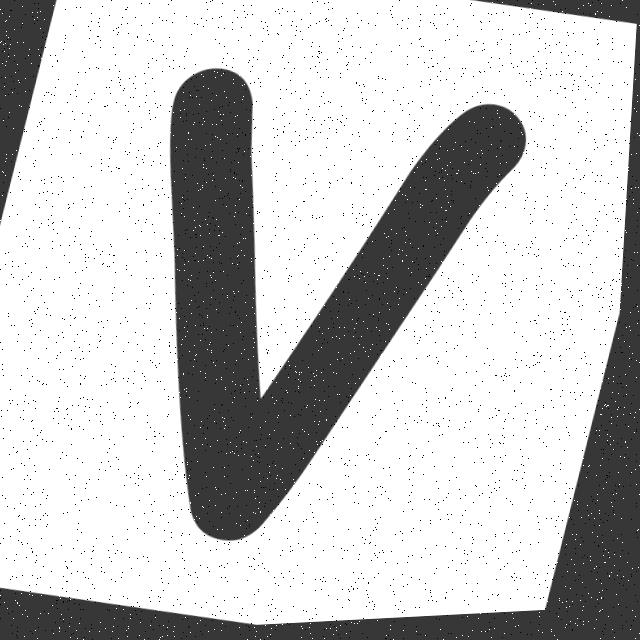V: (172, 71, 528, 543)
